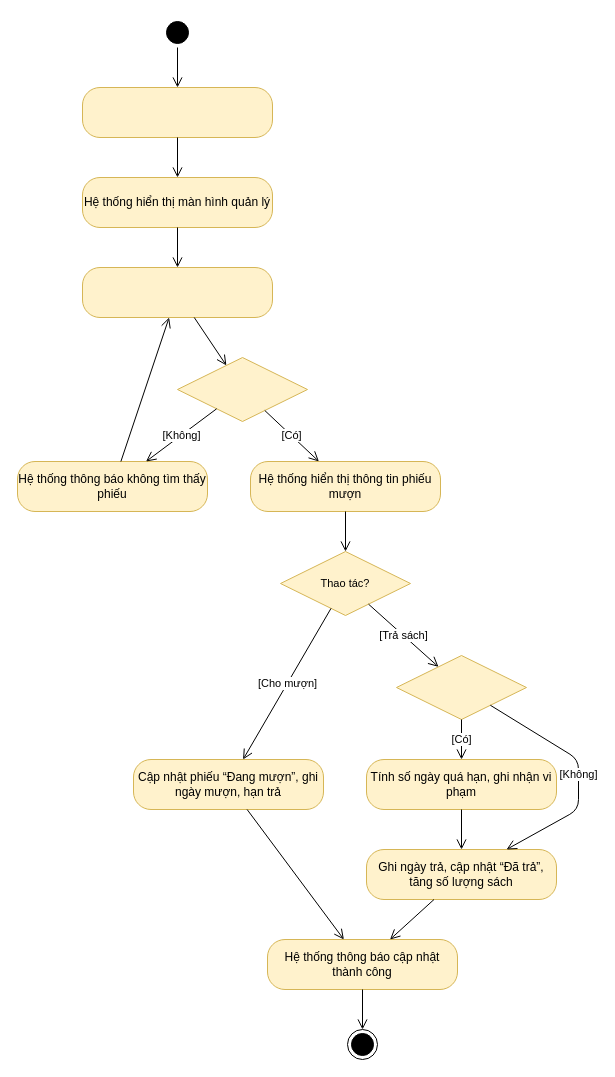
Some shapes in this 615 by 1077 pixel diagram are drawn without their labels. The centre of each missing label's shape, as x and y in pixels:
"Quá hạn?" goes at point 461,687.
"Thủ thư chọn Quản lý mượn/trả sách" goes at point 177,112.
"Thủ thư nhập mã thẻ hoặc mã phiếu mượn" goes at point 177,292.
"Tìm thấy phiếu?" goes at point 242,389.
